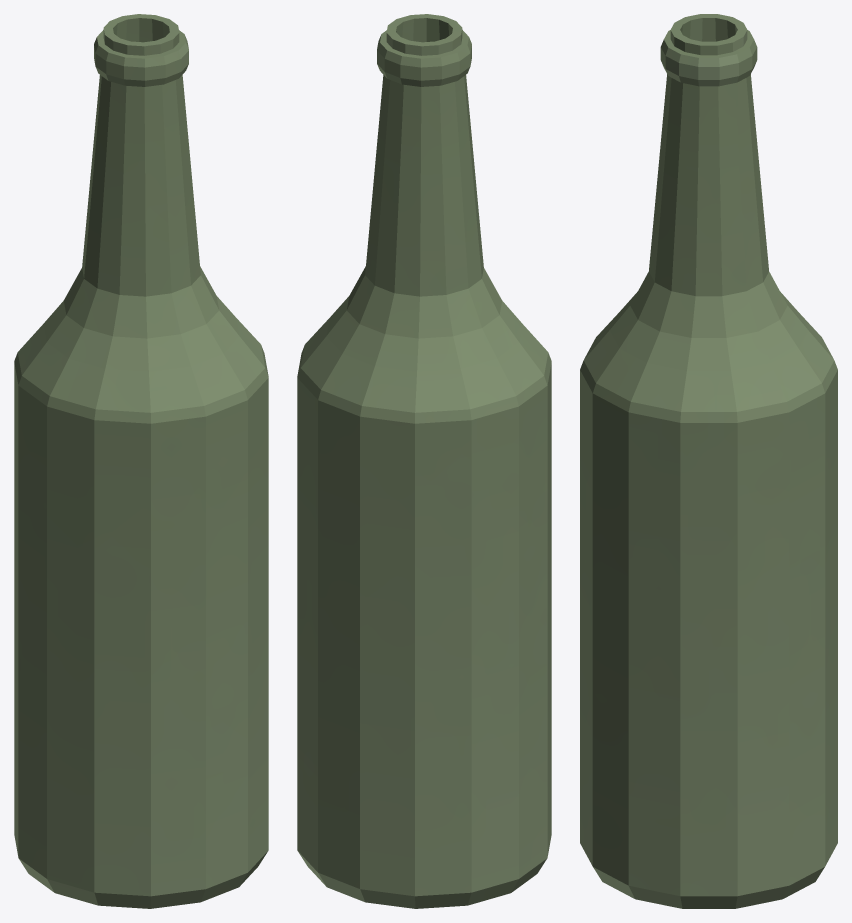
File: bottle_1.glb
3 views of the same model, side by side, from view 1: azimuth 30°, elevation 25°; view 2: azimuth 150°, elevation 25°; view 3: azimuth 270°, elevation 25° (orthographic).
Visible parts, largest first — view 1: bottle_1; view 2: bottle_1; view 3: bottle_1.
Part boxes in pixels (x1,y1,x2,y2): bottle_1: (14,14,268,908); bottle_1: (297,14,551,908); bottle_1: (580,14,837,908).
Bounding box in the file's own units: 0.0667 × 0.2429 × 0.0684.
Materials: 1 (1 with a texture image).
